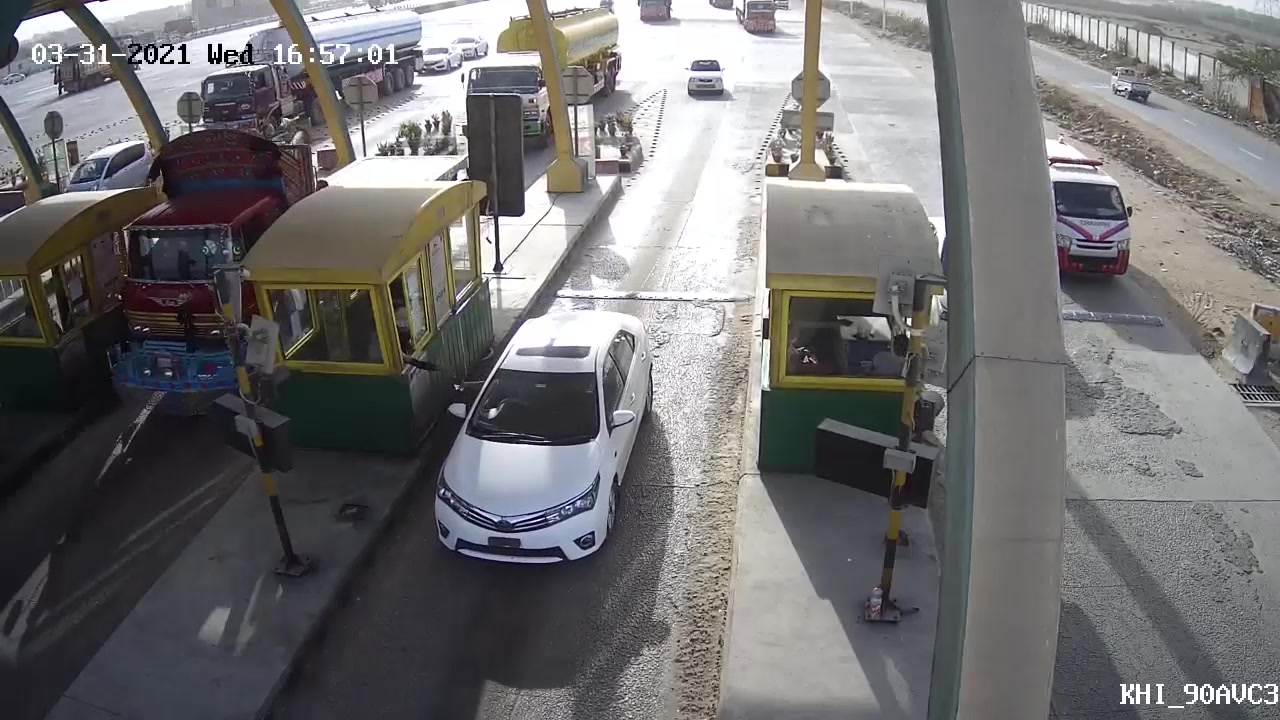F1: (427, 305, 659, 572)
